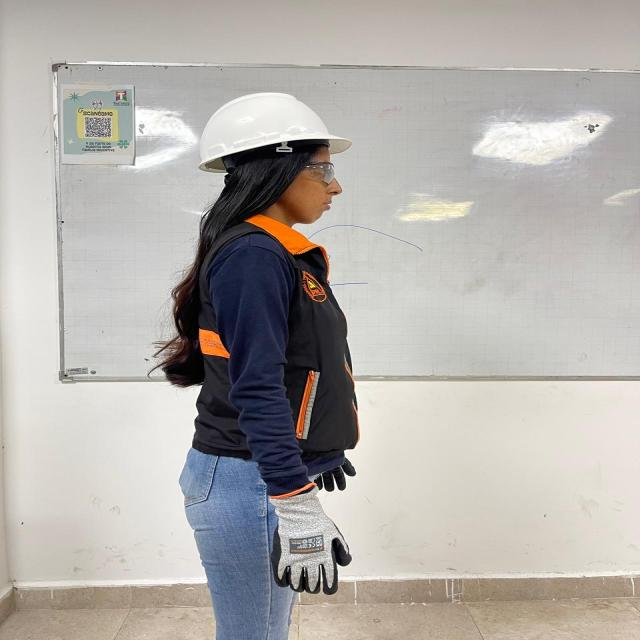gloves: (270, 483, 351, 594)
helmet: (200, 92, 351, 167)
protective_glasses: (298, 161, 339, 186)
